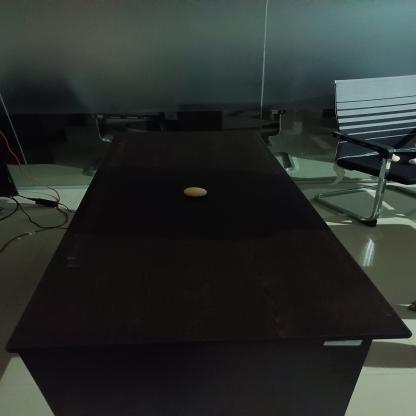egg: (184, 186, 211, 198)
